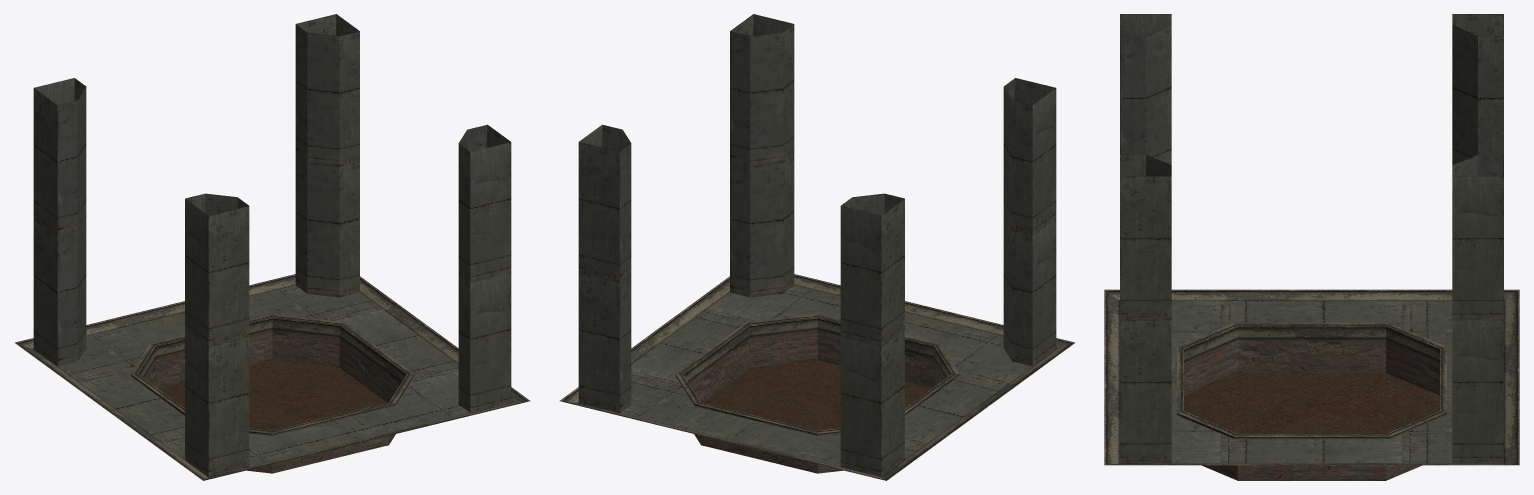
Rendered from structure_piece_rg_1.glb.
The picture shows the model from 3 angles, left to right: view 1: azimuth 30°, elevation 25°; view 2: azimuth 150°, elevation 25°; view 3: azimuth 270°, elevation 25°; orthographic projection. The views are drawn at different scales.
Visible parts, largest first — view 1: structure_piece_rg_1; view 2: structure_piece_rg_1; view 3: structure_piece_rg_1.
Part boxes in pixels (<box>): structure_piece_rg_1: <box>15,14,530,480</box>; structure_piece_rg_1: <box>559,14,1074,480</box>; structure_piece_rg_1: <box>1104,14,1519,480</box>.
Size of the model in its own units: 8 by 7.05 by 8.
3 materials, 3 textured.
